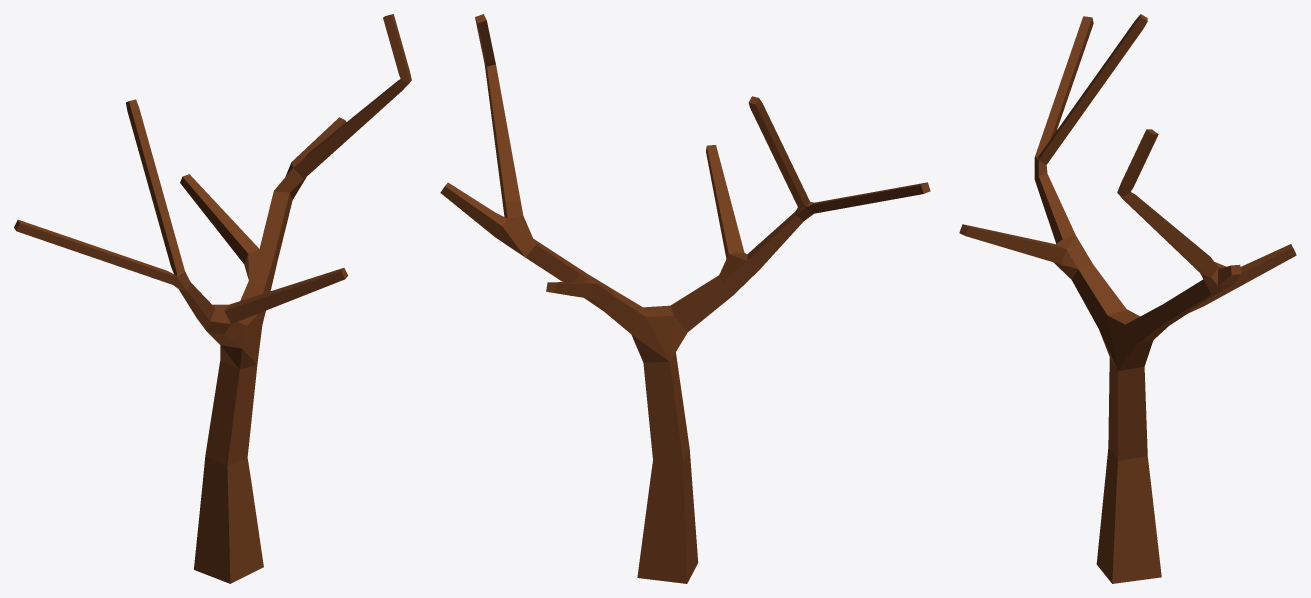
Rendered from deadTree.fbx.
3 renders of one model, left to right at view 1: azimuth 30°, elevation 25°; view 2: azimuth 150°, elevation 25°; view 3: azimuth 270°, elevation 25°, orthographic. The views are drawn at different scales.
Parts seen in each view (by area): view 1: Cube.001; view 2: Cube.001; view 3: Cube.001.
Boxes of the visible parts, x1=… form: Cube.001: x1=14, y1=14, x2=411, y2=583; Cube.001: x1=440, y1=14, x2=930, y2=583; Cube.001: x1=959, y1=14, x2=1296, y2=583.
Bounding box in the file's own units: 569 × 664 × 384.
